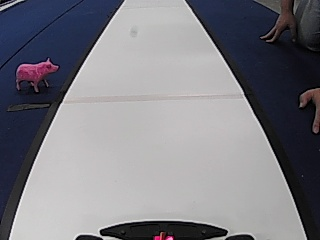pig: (14, 55, 59, 93)
